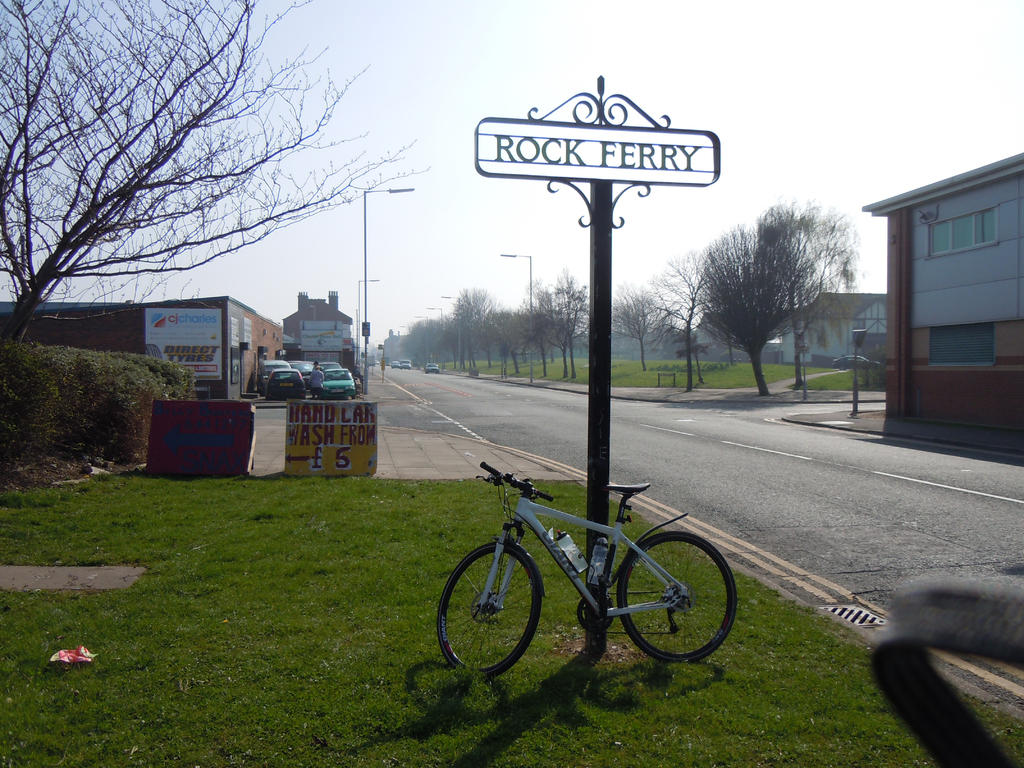Bike: (418, 464, 747, 687)
